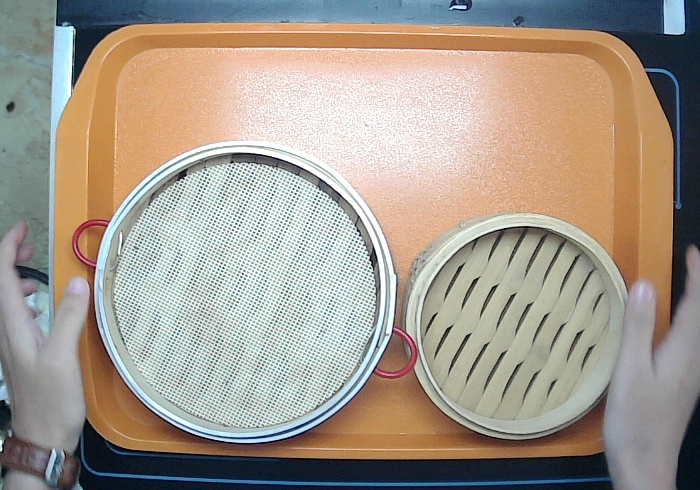ZNLD-Da_Zheng_Long: (56, 135, 426, 457)
ZNLD-Xiao_Zheng_Long: (387, 203, 646, 447)
